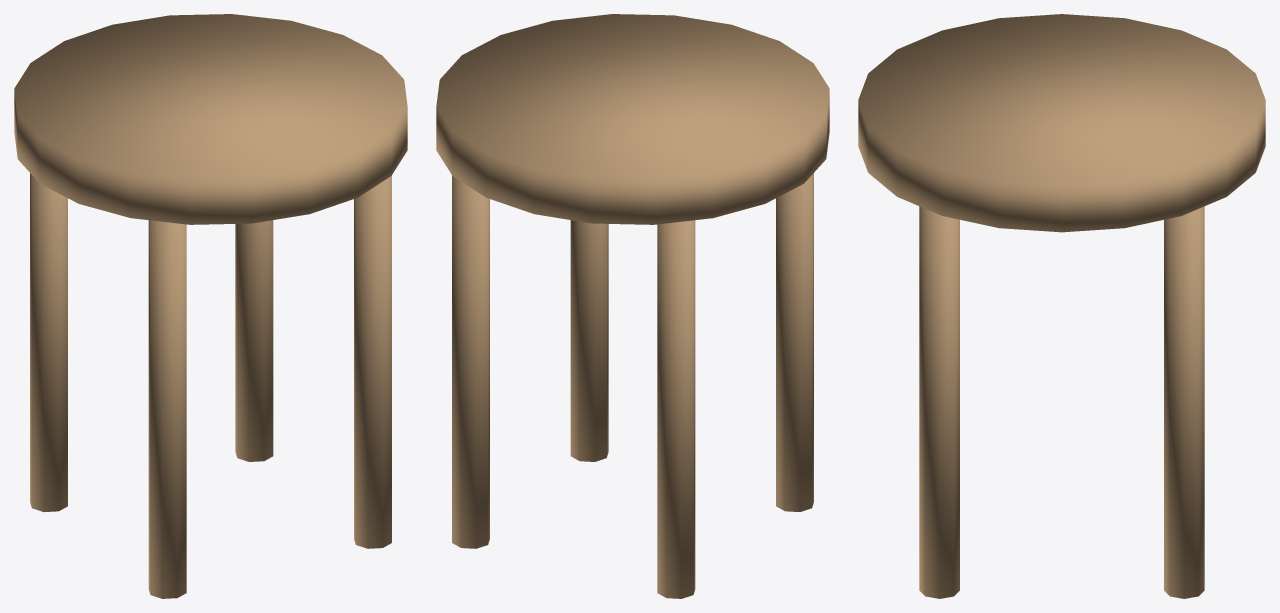
The model's file is stool.fbx.
3 views of the same model, side by side, from view 1: azimuth 30°, elevation 25°; view 2: azimuth 150°, elevation 25°; view 3: azimuth 270°, elevation 25° (orthographic). The views are drawn at different scales.
Visible parts, largest first — view 1: stool; view 2: stool; view 3: stool.
Boxes of the visible parts, <box> form: stool: <box>14,14,407,598</box>; stool: <box>436,14,829,598</box>; stool: <box>858,14,1265,598</box>.
Bounding box in the file's own units: 0.4 × 0.475 × 0.4.
